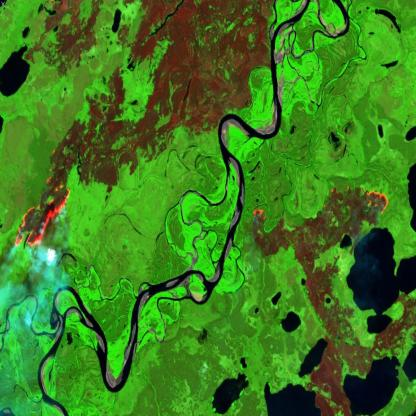fire: (10, 139, 74, 263), (322, 177, 390, 220), (253, 200, 271, 228)
